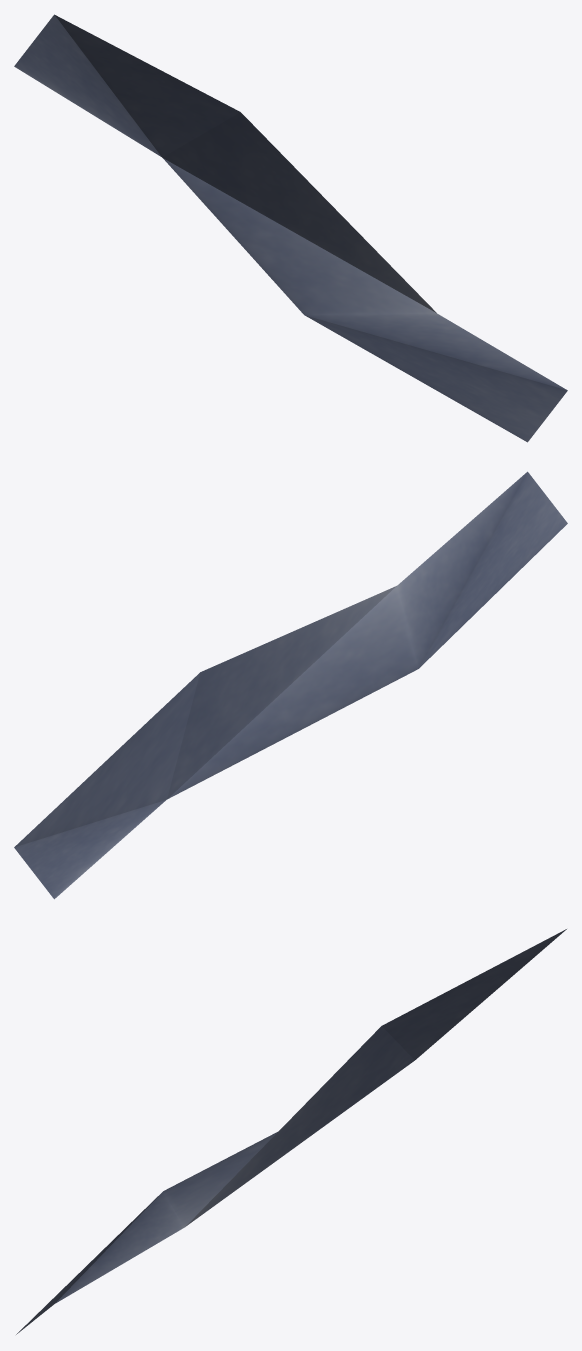
Rendered from SM_Floor_Ledge_D_A.fbx.
3 views of the same model, one above another, from view 1: azimuth 30°, elevation 25°; view 2: azimuth 150°, elevation 25°; view 3: azimuth 330°, elevation 25° (orthographic).
Visible parts, largest first — view 1: pCube273; view 2: pCube273; view 3: pCube273.
Boxes of the visible parts, x1=… form: pCube273: x1=14, y1=14, x2=567, y2=442; pCube273: x1=14, y1=471, x2=567, y2=899; pCube273: x1=16, y1=929, x2=566, y2=1334.
Size of the model in its own units: 0.087 by 0.087 by 1.
